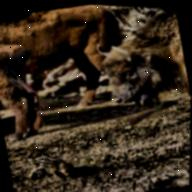boar: (77, 4, 192, 140)
